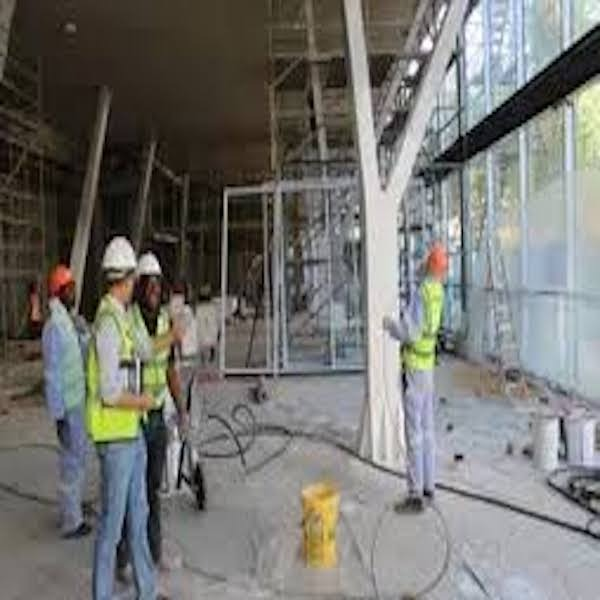helmet: (101, 236, 143, 273), (47, 260, 76, 292), (135, 251, 167, 279), (428, 240, 450, 275)
vest: (94, 296, 143, 441), (400, 280, 450, 370), (139, 305, 173, 409)
